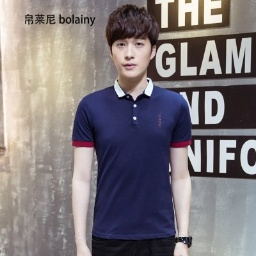face: (106, 4, 161, 79)
